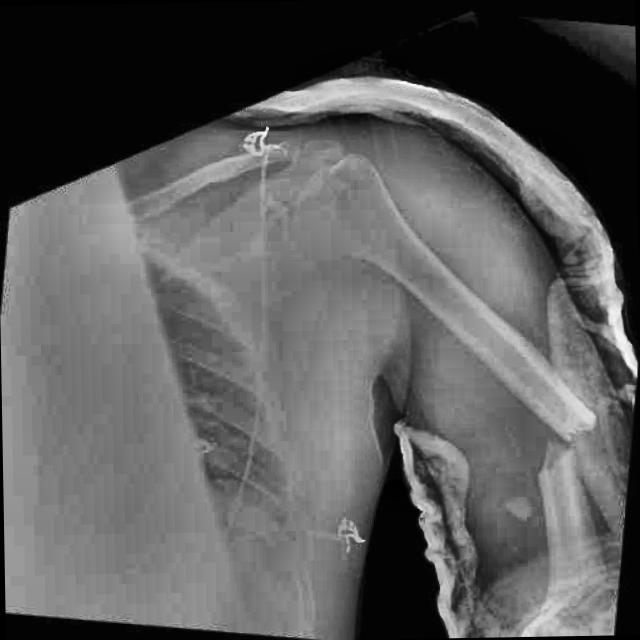humerus: (477, 340, 616, 546)
